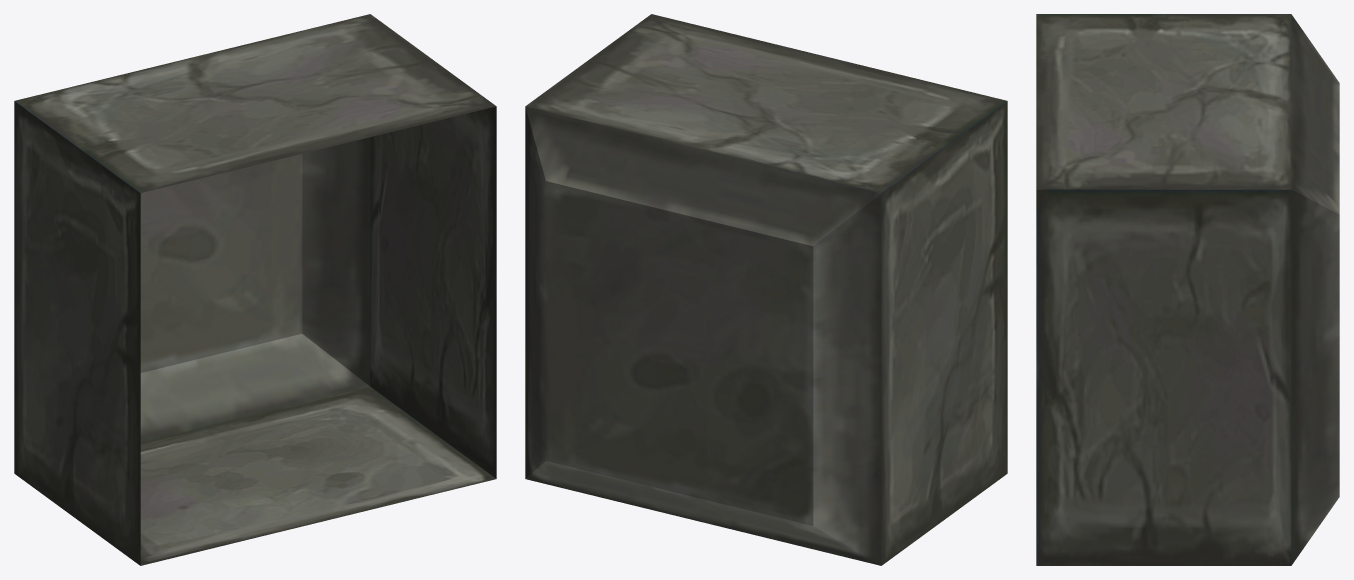
Rendered from button.dae.
3 renders of one model, left to right at view 1: azimuth 30°, elevation 25°; view 2: azimuth 150°, elevation 25°; view 3: azimuth 270°, elevation 25°, orthographic.
Visible parts, largest first — view 1: Cube_002; view 2: Cube_002; view 3: Cube_002.
Part boxes in pixels (box(x1,y1,x2,y2)): Cube_002: box(14, 14, 496, 565); Cube_002: box(525, 14, 1007, 565); Cube_002: box(1036, 14, 1339, 565).
Bounding box in the file's own units: 1.39 × 1.02 × 1.39.
1 material, 1 textured.
